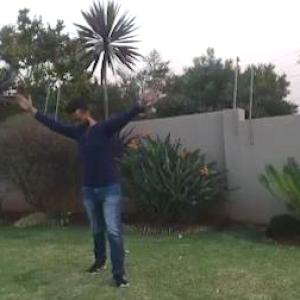takeoff: (17, 78, 163, 290)
